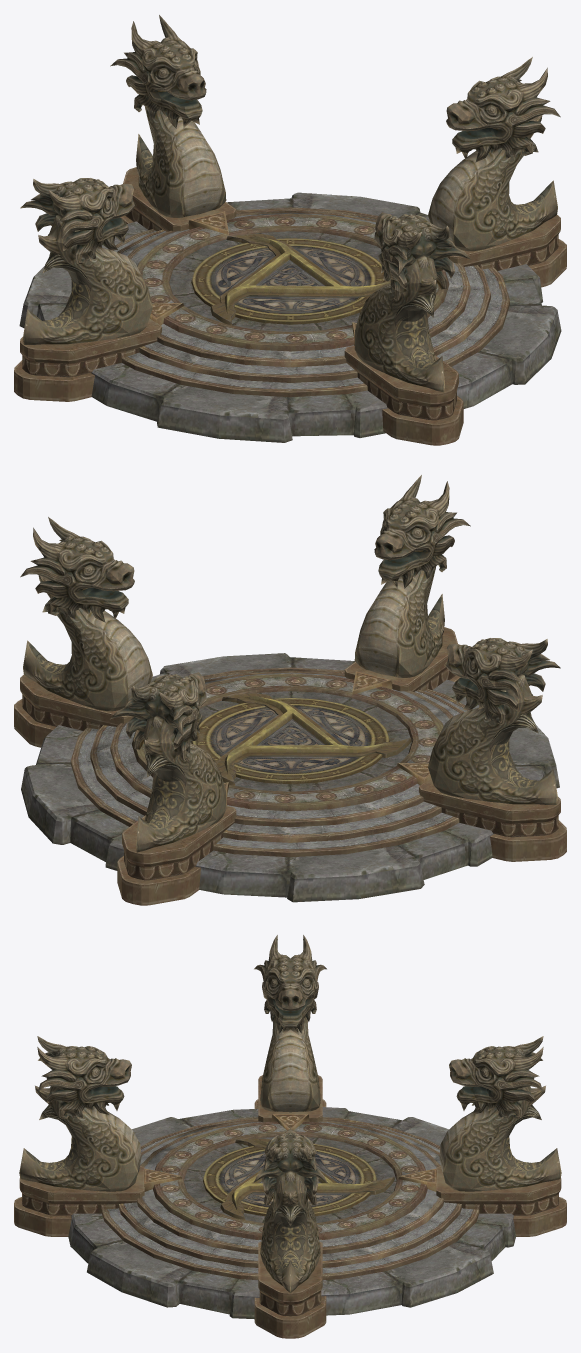
File: bg_anh_sqaureholl01_sm_phs.FBX
3 renders of one model, top to bottom at view 1: azimuth 30°, elevation 25°; view 2: azimuth 150°, elevation 25°; view 3: azimuth 270°, elevation 25°, orthographic. The views are drawn at different scales.
Parts seen in each view (by area): view 1: bg_anh_sqaureholl01_sm_phs; view 2: bg_anh_sqaureholl01_sm_phs; view 3: bg_anh_sqaureholl01_sm_phs.
Boxes of the visible parts, x1,y1,x2,y2 form: bg_anh_sqaureholl01_sm_phs: [14, 15, 566, 445]; bg_anh_sqaureholl01_sm_phs: [14, 475, 566, 905]; bg_anh_sqaureholl01_sm_phs: [14, 935, 566, 1338].
Size of the model in its own units: 562 by 206 by 562.
